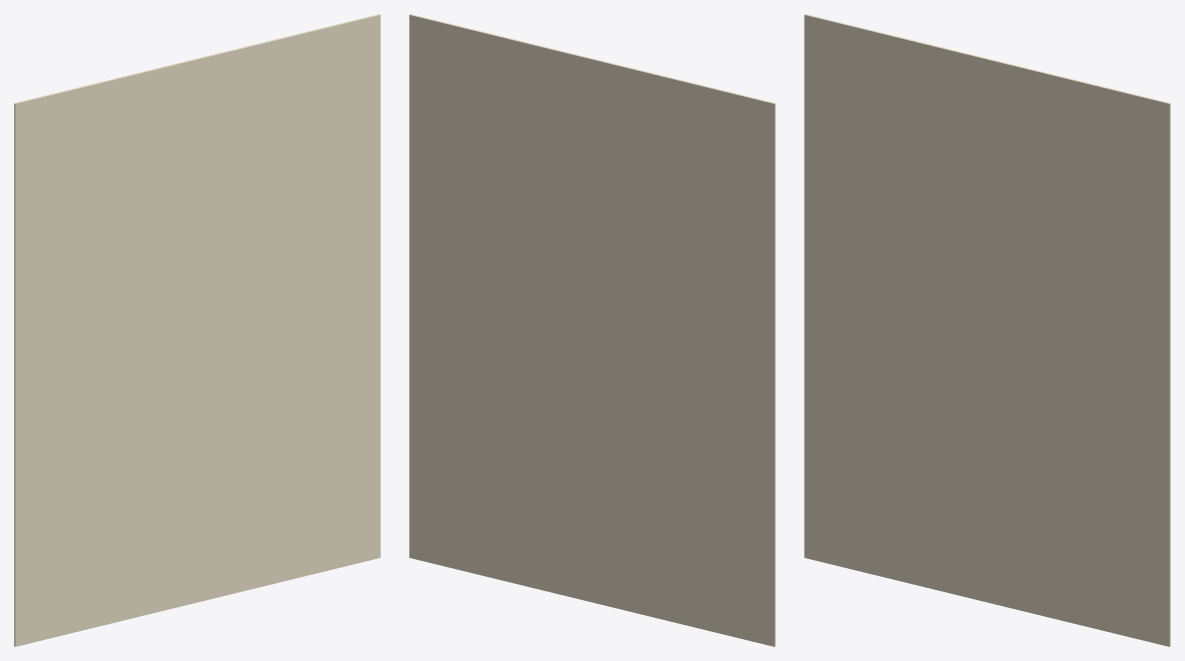
Rendered from original-12.obj.
The picture shows the model from 3 angles, left to right: view 1: azimuth 30°, elevation 25°; view 2: azimuth 150°, elevation 25°; view 3: azimuth 330°, elevation 25°; orthographic projection.
Parts seen in each view (by area): view 1: BACK1/BACK/mesh8/mesh8-geometry#mesh8-geometry; view 2: BACK1/BACK/mesh8/mesh8-geometry#mesh8-geometry; view 3: BACK1/BACK/mesh8/mesh8-geometry#mesh8-geometry.
Boxes of the visible parts, box(x1,y1,x2,y2) form: BACK1/BACK/mesh8/mesh8-geometry#mesh8-geometry: box(14, 14, 380, 646); BACK1/BACK/mesh8/mesh8-geometry#mesh8-geometry: box(409, 14, 775, 646); BACK1/BACK/mesh8/mesh8-geometry#mesh8-geometry: box(804, 14, 1170, 646).
Bounding box in the file's own units: 1.1 × 1.56 × 0.00589.
